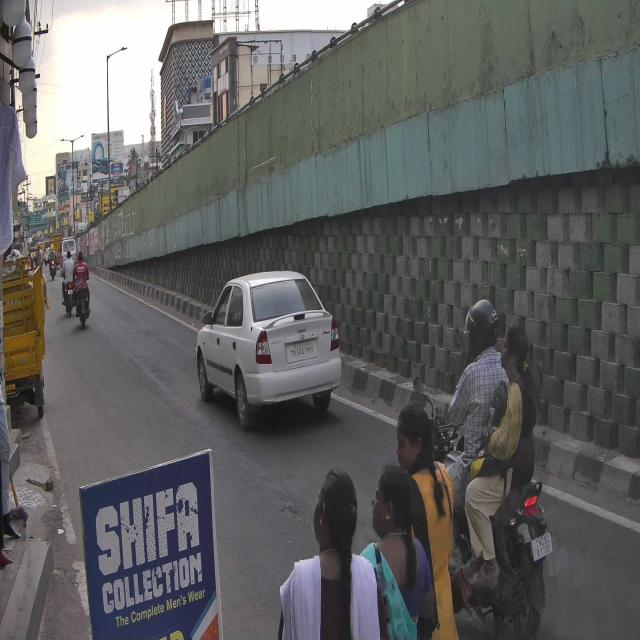double_rider: (449, 292, 553, 636)
